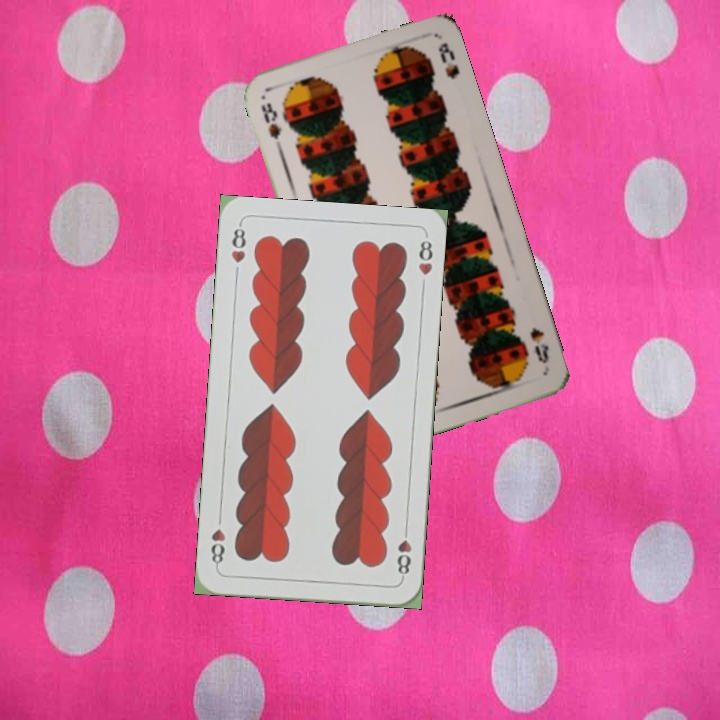H8: (393, 522, 414, 582), (227, 221, 248, 266)
S8: (256, 99, 285, 153), (526, 323, 552, 366)
